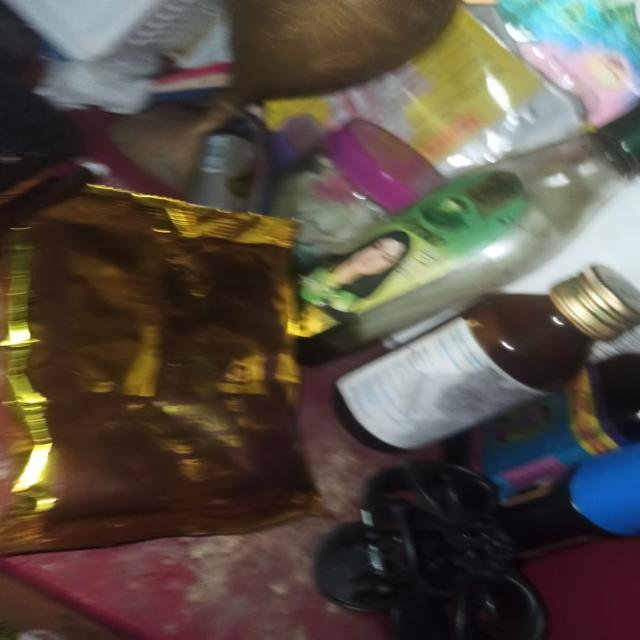Harischandra Coffee: (0, 201, 316, 551)
